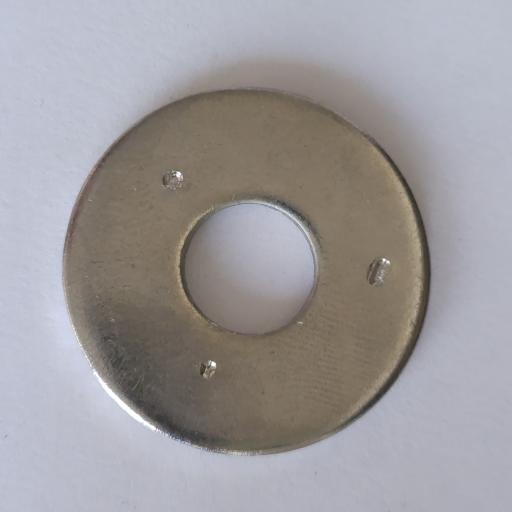circular_cavity: (367, 257, 391, 287), (162, 169, 183, 190), (200, 360, 217, 379)
